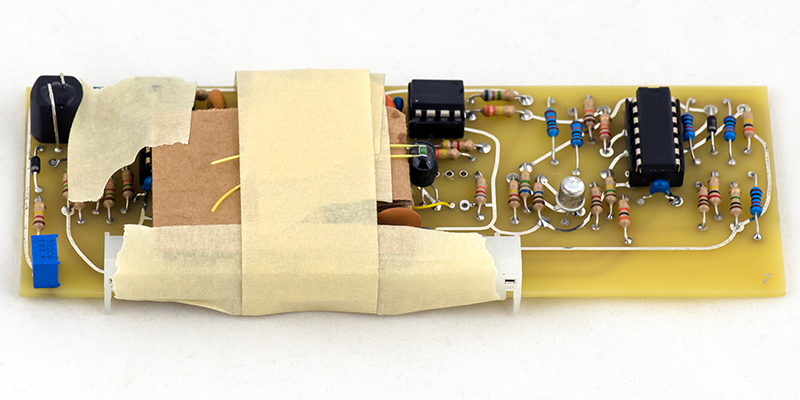resistor: (589, 185, 605, 216), (544, 108, 560, 138), (617, 198, 632, 229), (32, 199, 47, 229), (479, 89, 516, 101), (441, 138, 475, 151), (729, 186, 743, 217), (603, 176, 618, 204), (569, 120, 584, 148), (480, 105, 515, 117), (708, 177, 722, 206), (507, 180, 521, 208), (750, 186, 763, 216), (582, 98, 595, 128), (682, 112, 696, 139), (742, 110, 755, 139), (474, 177, 487, 206), (599, 113, 612, 141), (104, 176, 115, 209), (697, 186, 710, 213), (724, 115, 737, 142), (533, 182, 545, 211), (121, 168, 133, 197), (436, 147, 462, 160), (519, 170, 531, 197), (62, 172, 69, 195)
